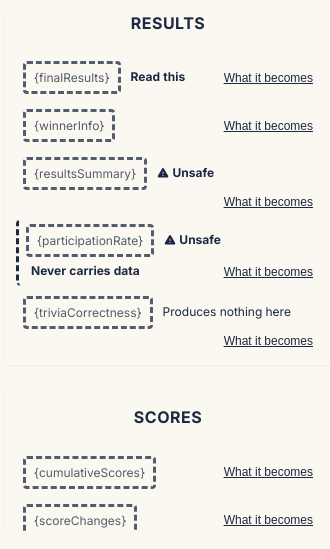
unsafe variables are named, and named for what they do › expanding a row states what it becomes and why it is unsafe
(page scrolled)
Click the button "What it becomes" next to "Never carries data": (268, 272) [224,264,313,278]
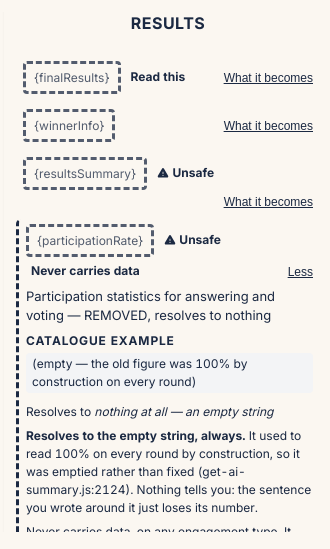
Expected: the text "nothing at all — an empty string" is shown, [94,404,273,419]
Expected: the element with test id "pvi-row-participationRate" shows "Resolves to the empty string, always", [26,428,245,443]
